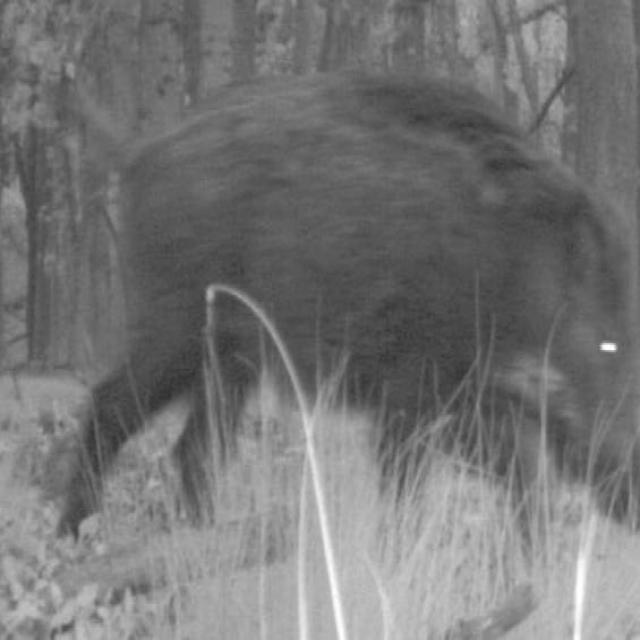pig: (66, 74, 640, 568)
